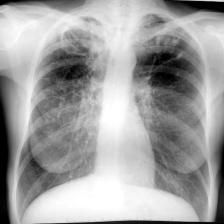tuberculosis: (10, 7, 214, 222)
